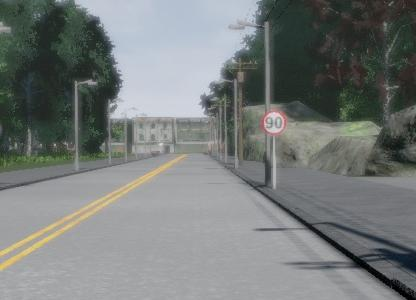Speed_90: (360, 86, 415, 140)
